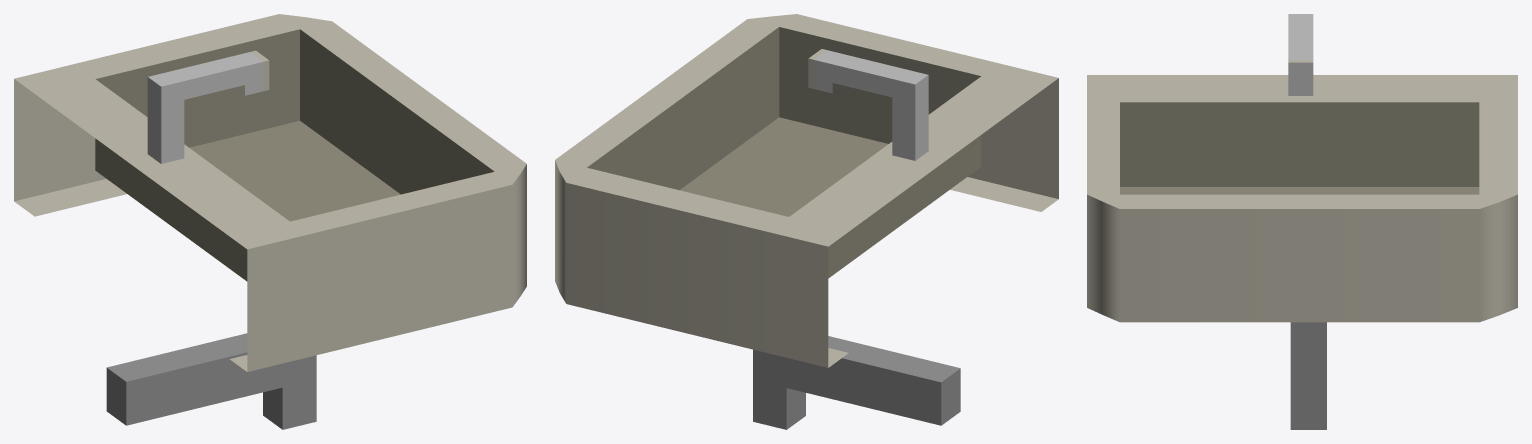
Rendered from Wastafel.fbx.
3 views of the same model, side by side, from view 1: azimuth 30°, elevation 25°; view 2: azimuth 150°, elevation 25°; view 3: azimuth 270°, elevation 25° (orthographic). The views are drawn at different scales.
Visible parts, largest first — view 1: polySurface12; view 2: polySurface12; view 3: polySurface12.
Boxes of the visible parts, box(x1,y1,x2,y2) form: polySurface12: box(14, 14, 526, 429); polySurface12: box(555, 14, 1058, 429); polySurface12: box(1087, 14, 1517, 429).
Bounding box in the file's own units: 0.5692 × 0.6599 × 0.7459.
1 material, 1 textured.
